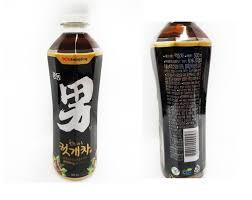heotgaecha: (46, 2, 105, 182)
